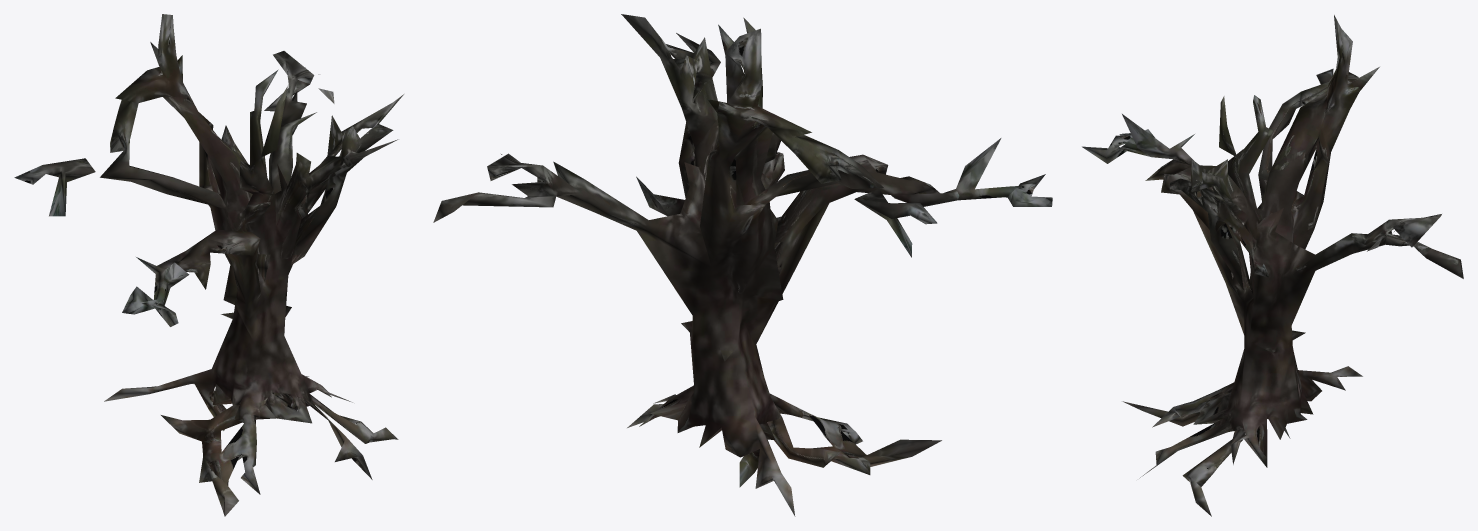
The model's file is d8a1f6e8596c_cbeea3f5ca52_a_dry_dead_tree_wit.glb.
3 views of the same model, side by side, from view 1: azimuth 30°, elevation 25°; view 2: azimuth 150°, elevation 25°; view 3: azimuth 270°, elevation 25° (orthographic). The views are drawn at different scales.
Parts seen in each view (by area): view 1: mesh; view 2: mesh; view 3: mesh.
Part boxes in pixels (bbox=[...]): mesh: bbox=[14, 14, 403, 516]; mesh: bbox=[433, 14, 1052, 516]; mesh: bbox=[1082, 15, 1463, 516].
Bounding box in the file's own units: 0.8889 × 1.01 × 0.8333.
Materials: 1 (1 with a texture image).
